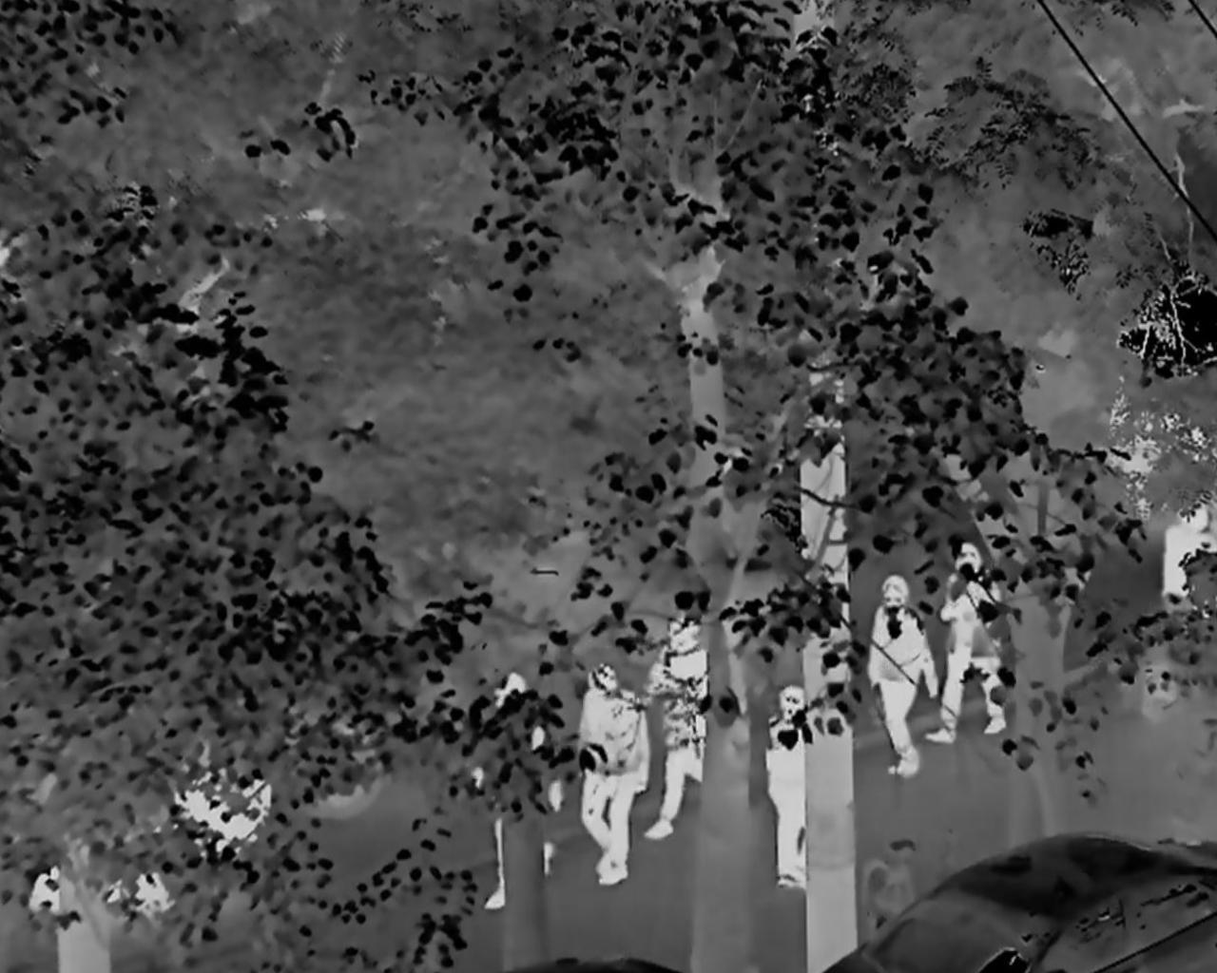person: (477, 672, 564, 910), (570, 670, 654, 901), (647, 615, 715, 851), (866, 576, 938, 793), (939, 544, 1009, 744), (765, 688, 820, 894)
